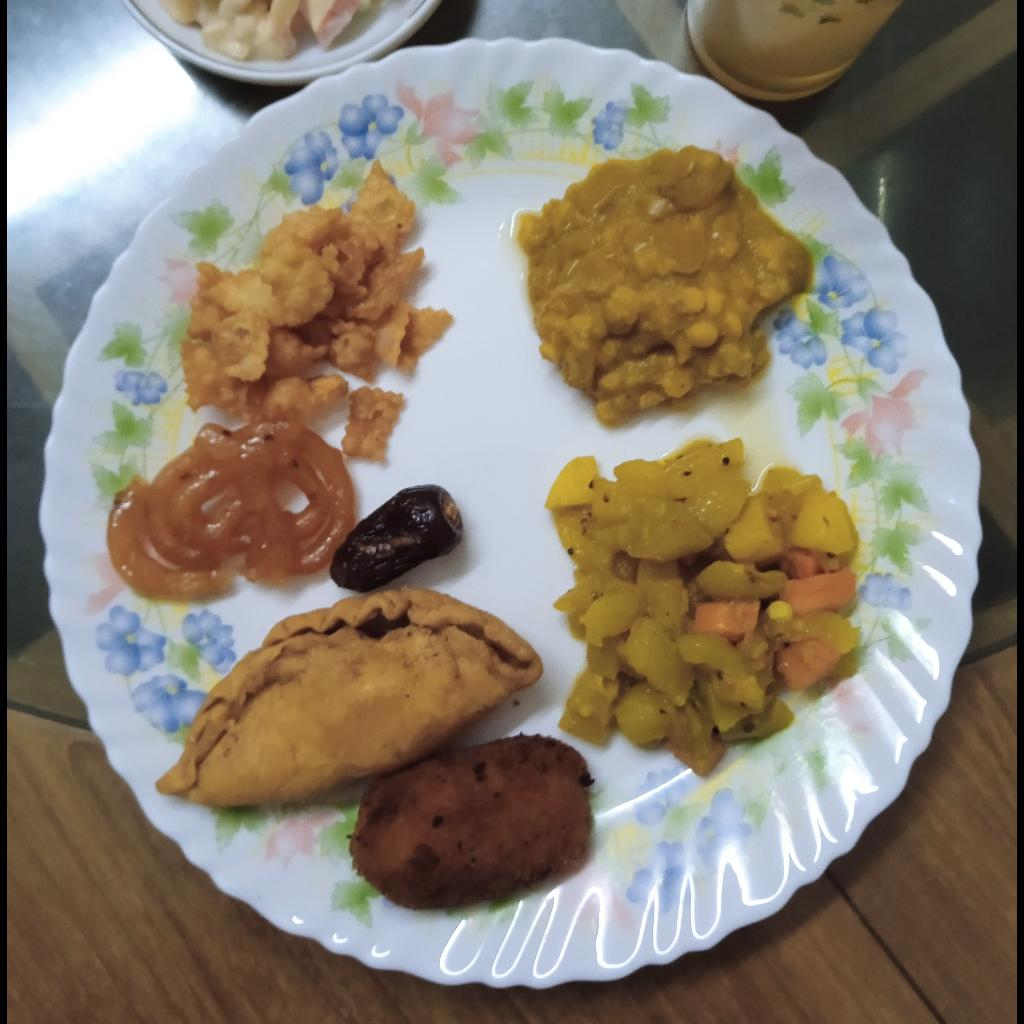chomchom: (182, 158, 453, 466)
chop-alu: (352, 733, 595, 909)
daal: (517, 144, 813, 429)
dates: (332, 486, 465, 590)
jilapi: (107, 420, 356, 598)
salad: (164, 0, 371, 61)
sweets: (156, 590, 544, 808)
vegetable: (547, 438, 861, 780)
